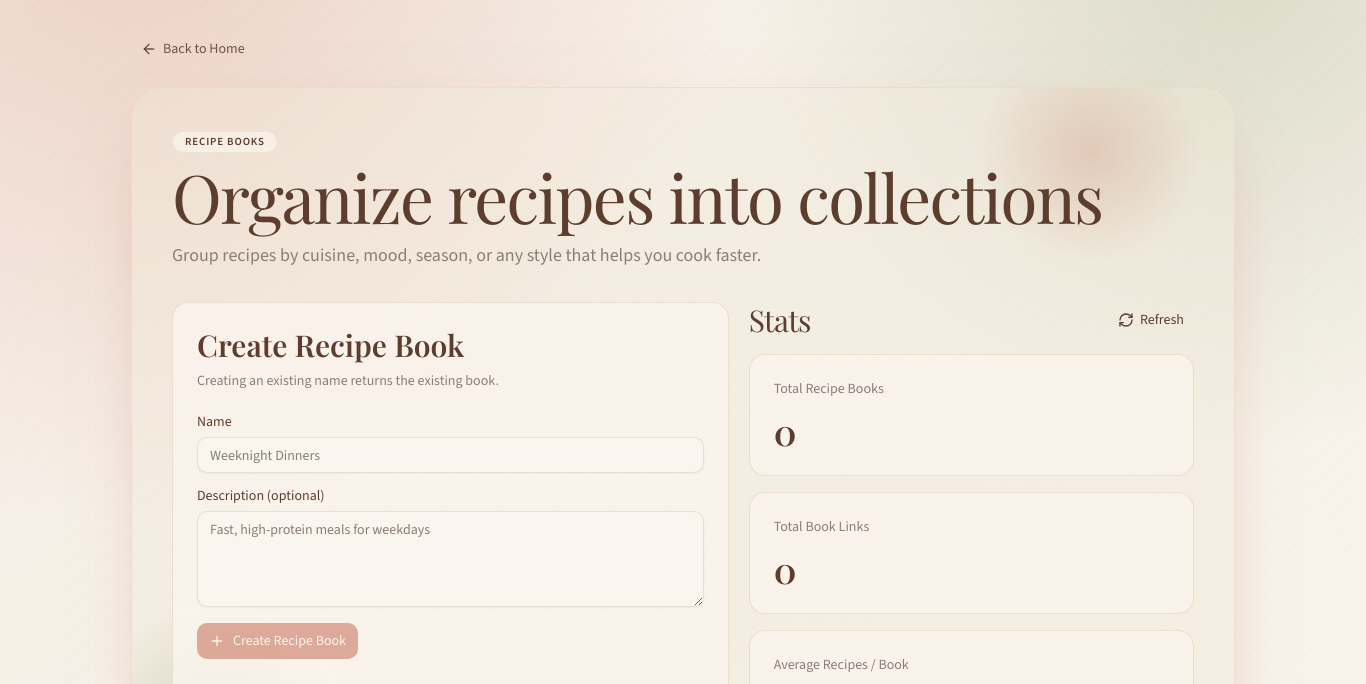
it: /books page › creates a recipe book and shows created state
Type "Meal Prep" into the field labelled "Name".
click(450, 455); type("Meal Prep")  # box [197,437,704,473]
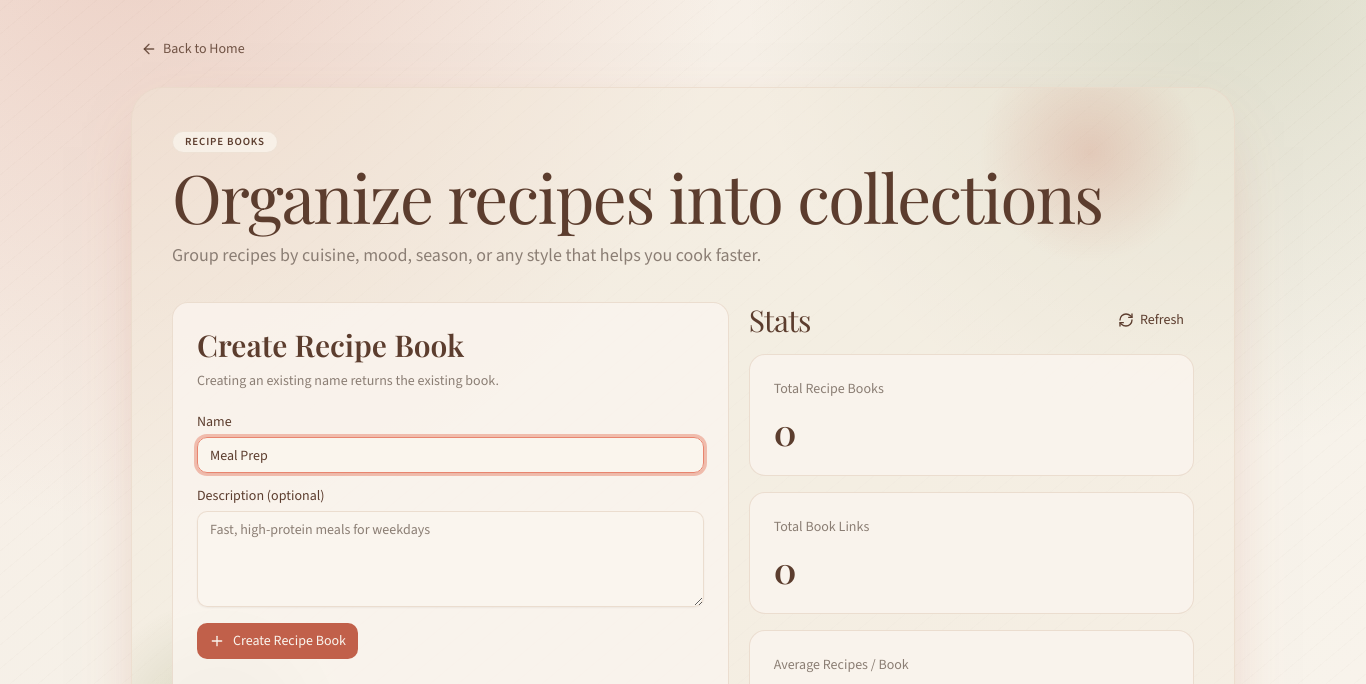
Type "Batch cooking" into the text box labelled "Description (optional)".
click(450, 559); type("Batch cooking")  # box [197,511,704,607]
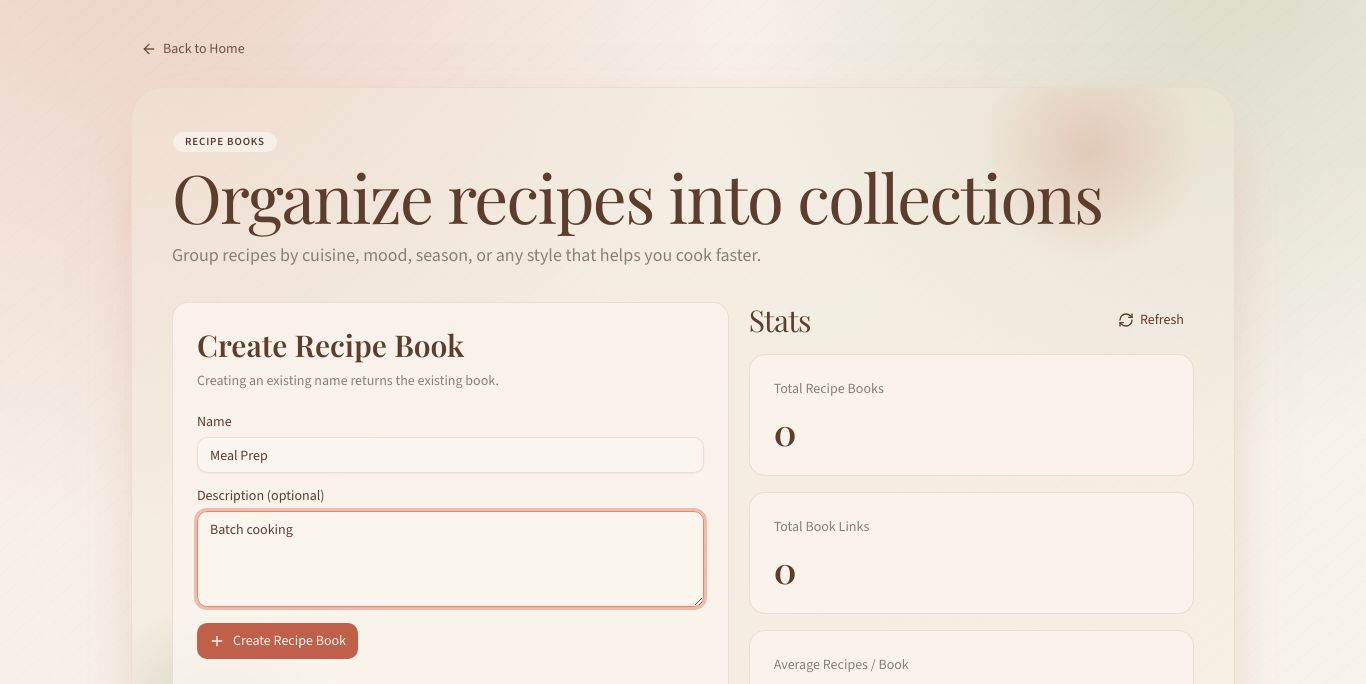
Click the button "Create Recipe Book".
click(278, 641)  # box [197,623,358,659]
(page scrolled)
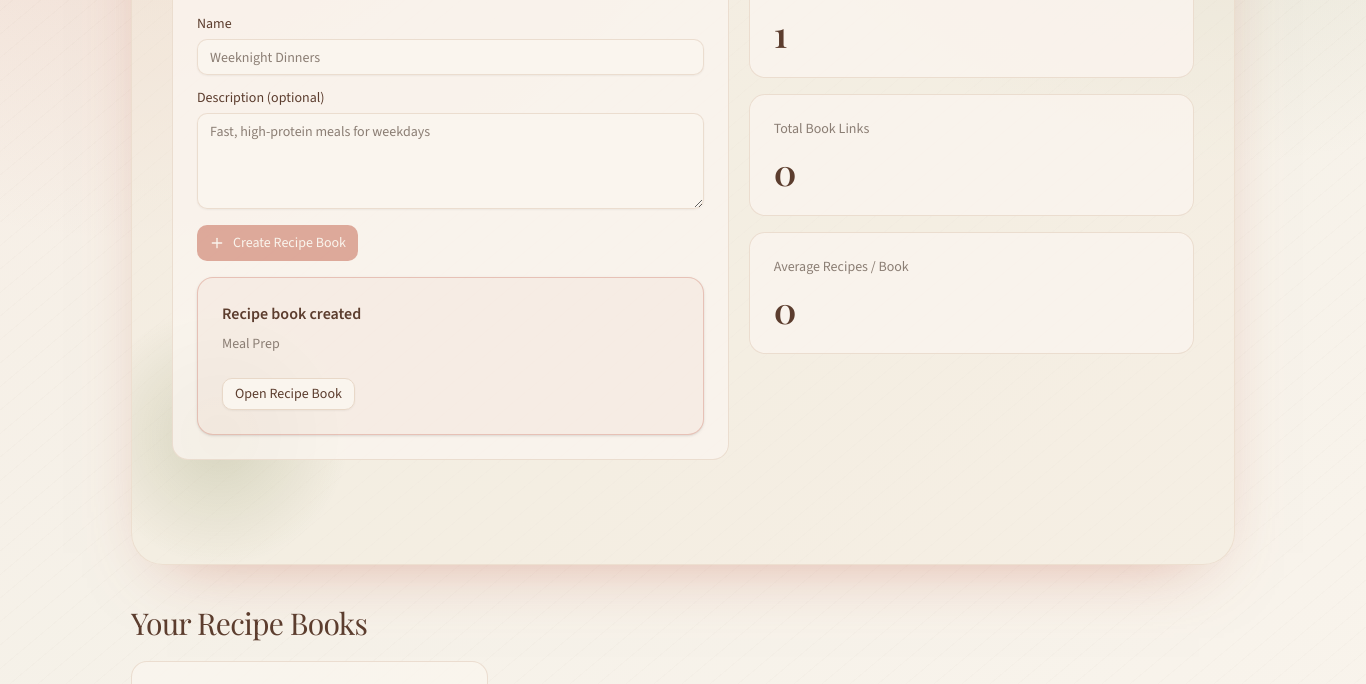
Expected: the text "Recipe book created" is shown, [222,303,361,324]
